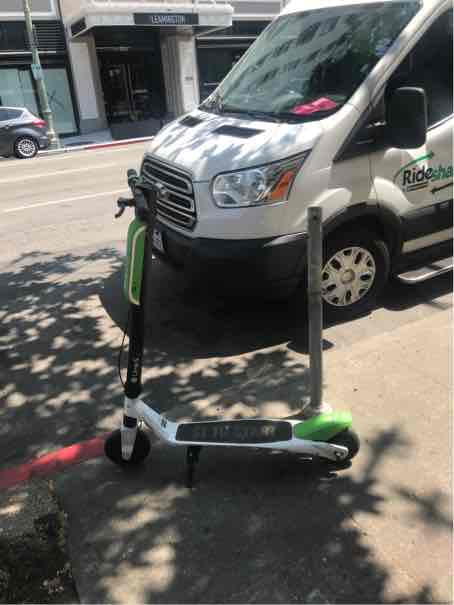scooter: (88, 158, 364, 482)
